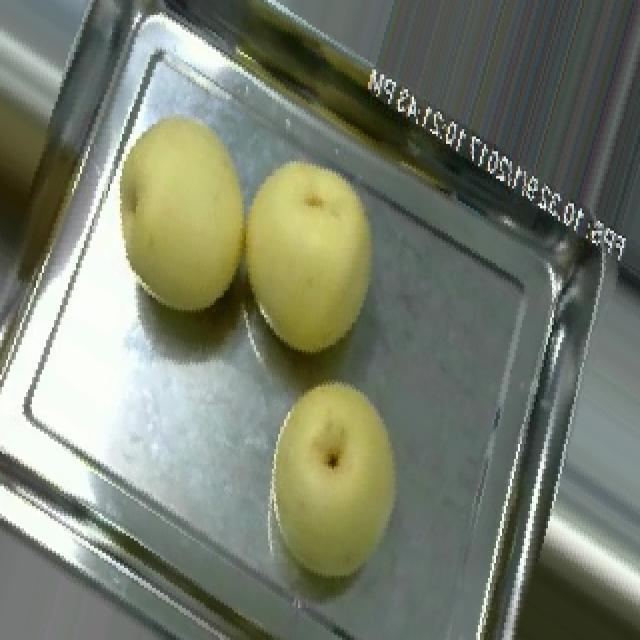Fruit: (82, 94, 274, 340), (242, 364, 422, 598), (222, 139, 396, 370)
